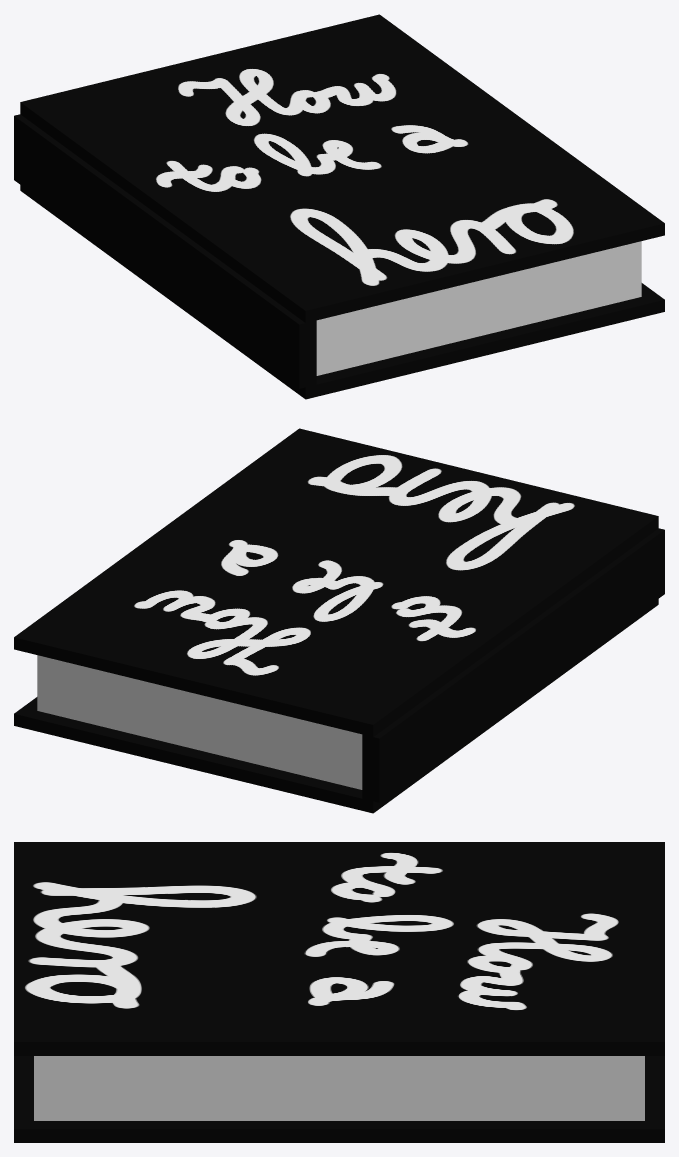
The model's file is Knjiga.fbx.
The picture shows the model from 3 angles, top to bottom: view 1: azimuth 30°, elevation 25°; view 2: azimuth 150°, elevation 25°; view 3: azimuth 270°, elevation 25°; orthographic projection. The views are drawn at different scales.
Visible parts, largest first — view 1: Cube; view 2: Cube; view 3: Cube.
Boxes of the visible parts, x1,y1,x2,y2 form: Cube: [14, 14, 664, 399]; Cube: [14, 428, 664, 813]; Cube: [14, 842, 664, 1142].
Bounding box in the file's own units: 27.6 × 6.38 × 37.3.
2 materials, 1 textured.
